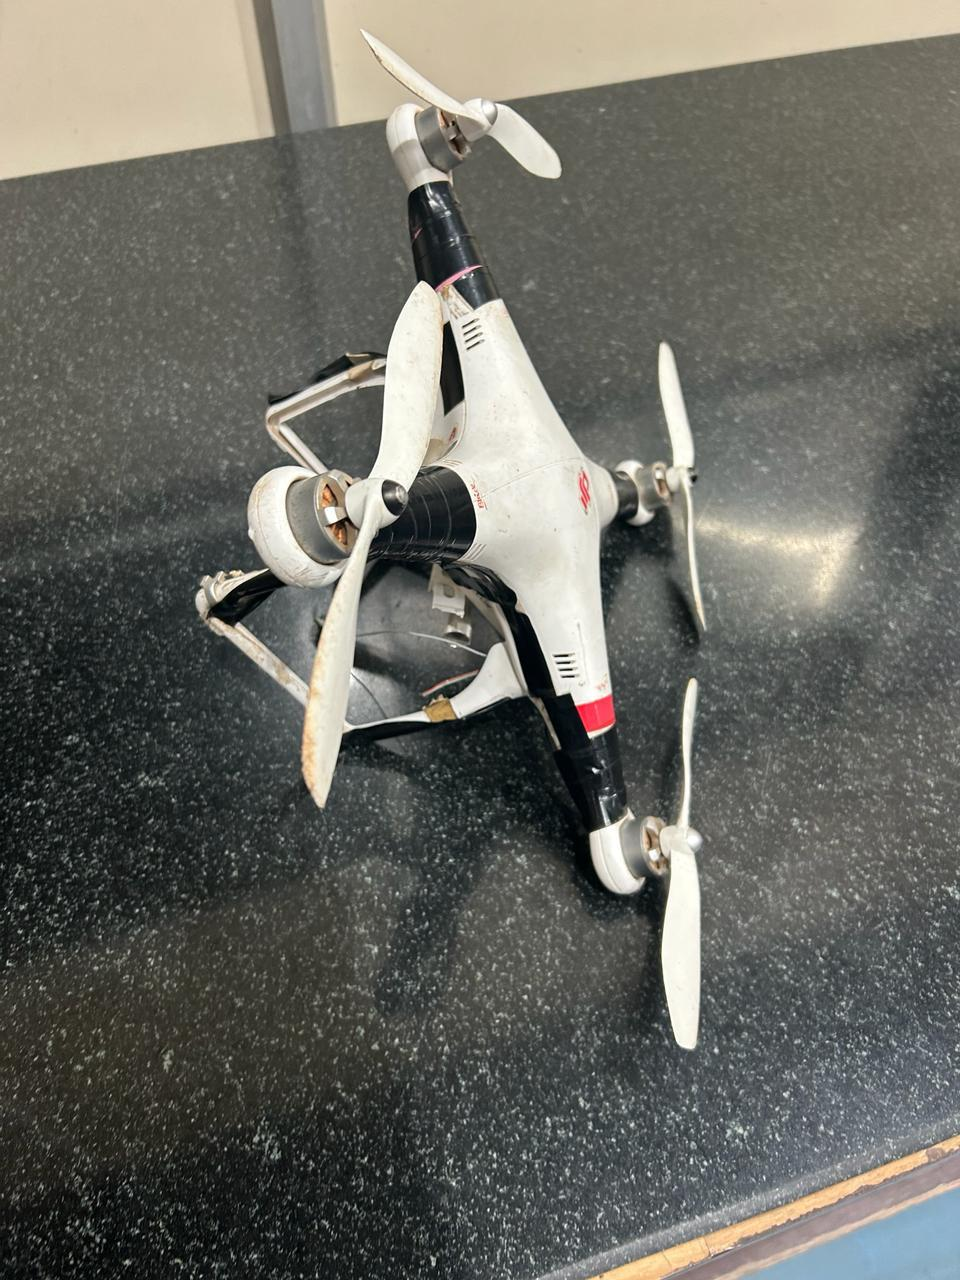drone: (190, 23, 718, 1059)
